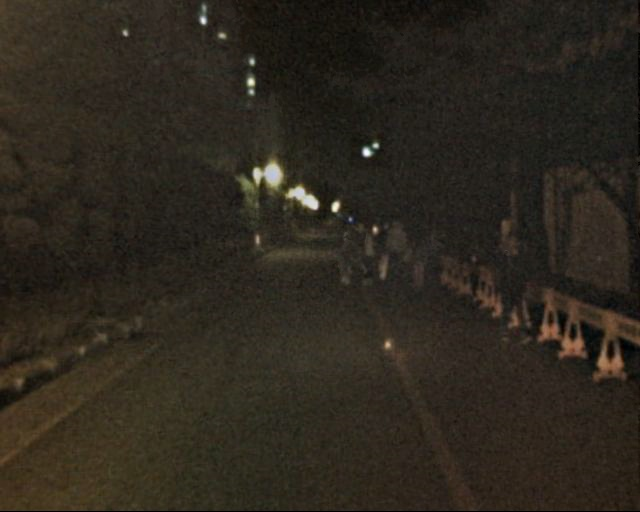person: (486, 235, 532, 348), (378, 221, 410, 299), (351, 227, 379, 295), (420, 227, 447, 293), (330, 229, 357, 294), (404, 236, 429, 296), (370, 232, 389, 279)
